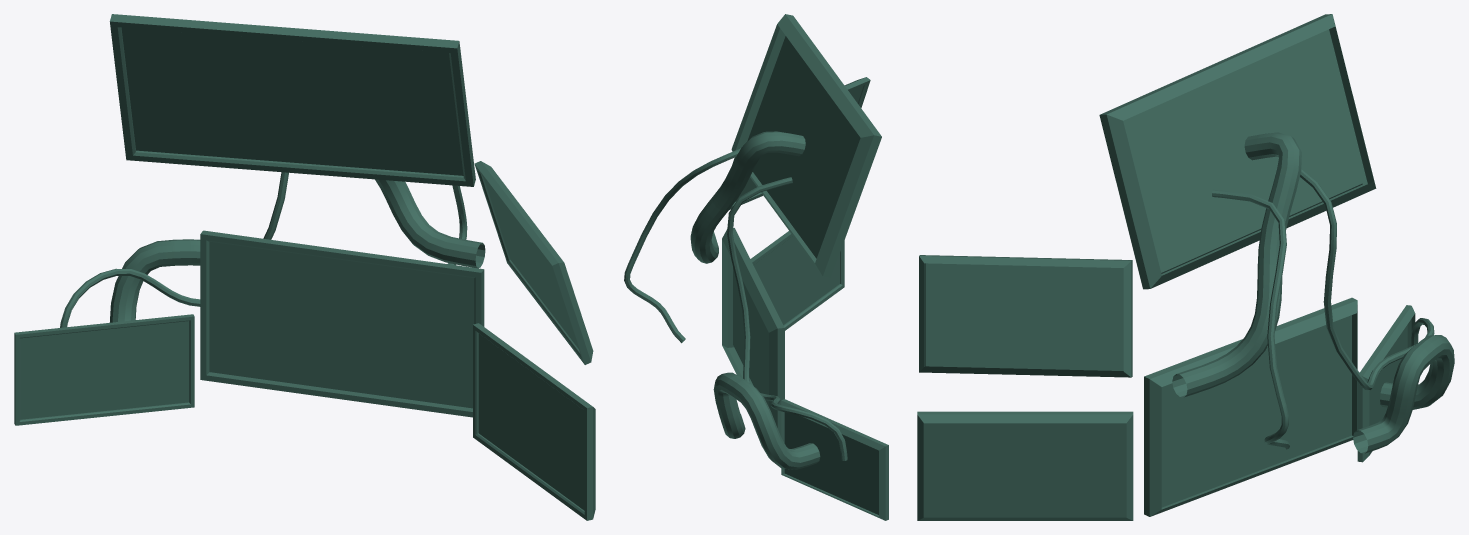
File: RetroScreens.fbx
The picture shows the model from 3 angles, left to right: view 1: azimuth 30°, elevation 25°; view 2: azimuth 150°, elevation 25°; view 3: azimuth 270°, elevation 25°; orthographic projection. The views are drawn at different scales.
Visible parts, largest first — view 1: Screen5, Screen, Screen6, Screen3, Screen4, ScreenArm12, ScreenArm9, Cable6; view 2: Screen5, Screen6, Screen, Screen3, ScreenArm9, ScreenArm12, Cable6, Cable7, Screen4; view 3: Screen5, Screen, Screen4, Screen3, ScreenArm12, ScreenArm9, Screen6, Cable6, Cable7.
Boxes of the visible parts, x1,y1,x2,y2 form: Screen5: (109,14,475,186); Screen: (200,230,484,417); Screen6: (14,314,194,425); Screen3: (473,323,595,520); Screen4: (474,161,593,364); ScreenArm12: (375,179,485,268); ScreenArm9: (109,239,200,322); Cable6: (60,172,288,327); Screen5: (731,14,881,277); Screen6: (781,399,888,520); Screen: (722,228,784,436); Screen3: (750,231,844,330); ScreenArm9: (713,372,820,469); ScreenArm12: (690,131,805,263); Cable6: (727,177,847,460); Cable7: (624,148,740,343); Screen4: (729,77,870,209); Screen5: (1099,14,1376,289); Screen: (1144,297,1357,516); Screen4: (919,255,1132,377); Screen3: (917,411,1133,520); ScreenArm12: (1172,132,1301,397); ScreenArm9: (1353,335,1454,453); Screen6: (1357,305,1415,462); Cable6: (1300,169,1434,390); Cable7: (1212,189,1289,449).
Bounding box in the file's own units: 2.78 × 2.96 × 3.53.
